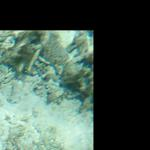dead: (1, 31, 92, 148)
